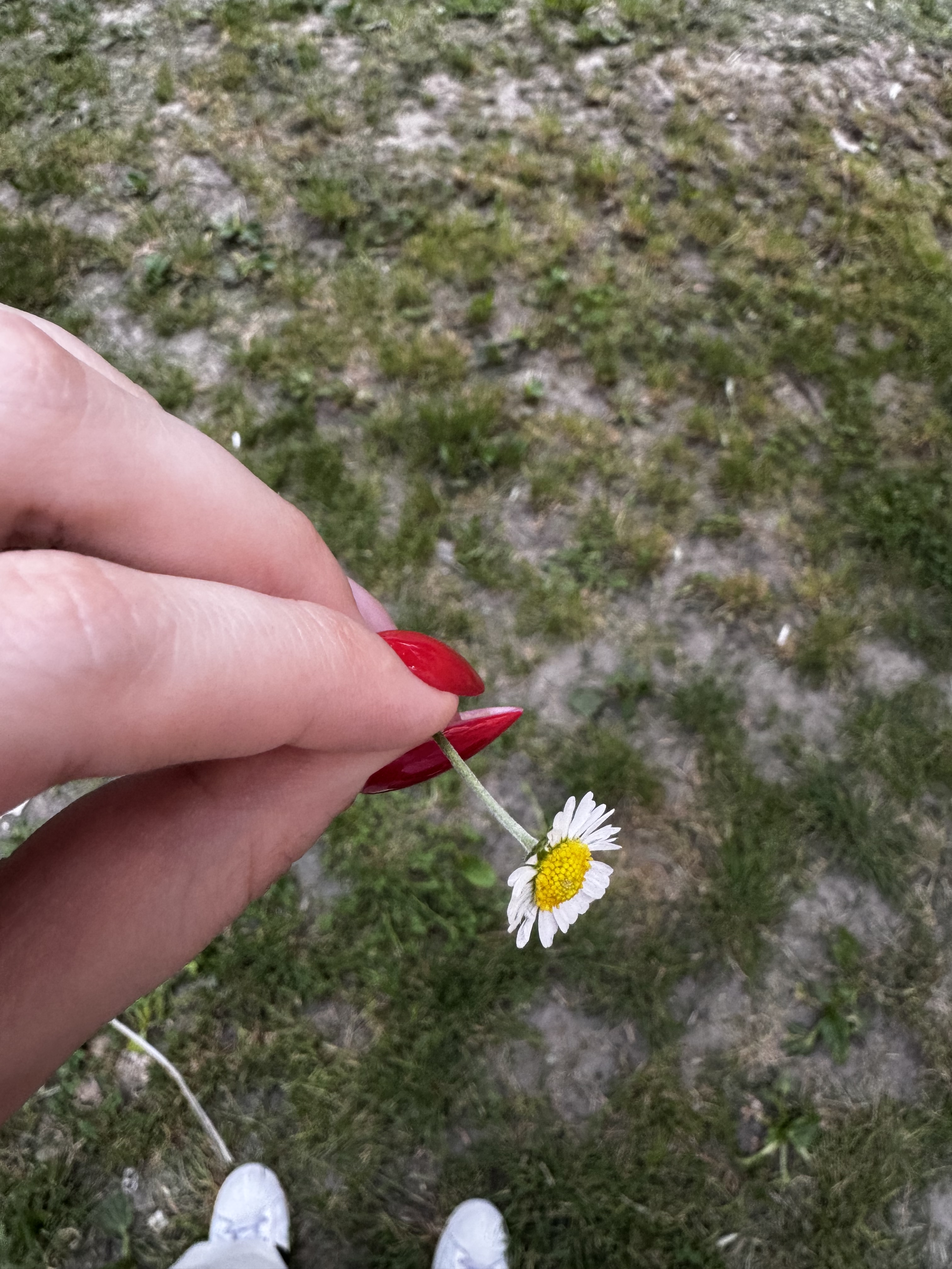daisy: (491, 782, 639, 960)
